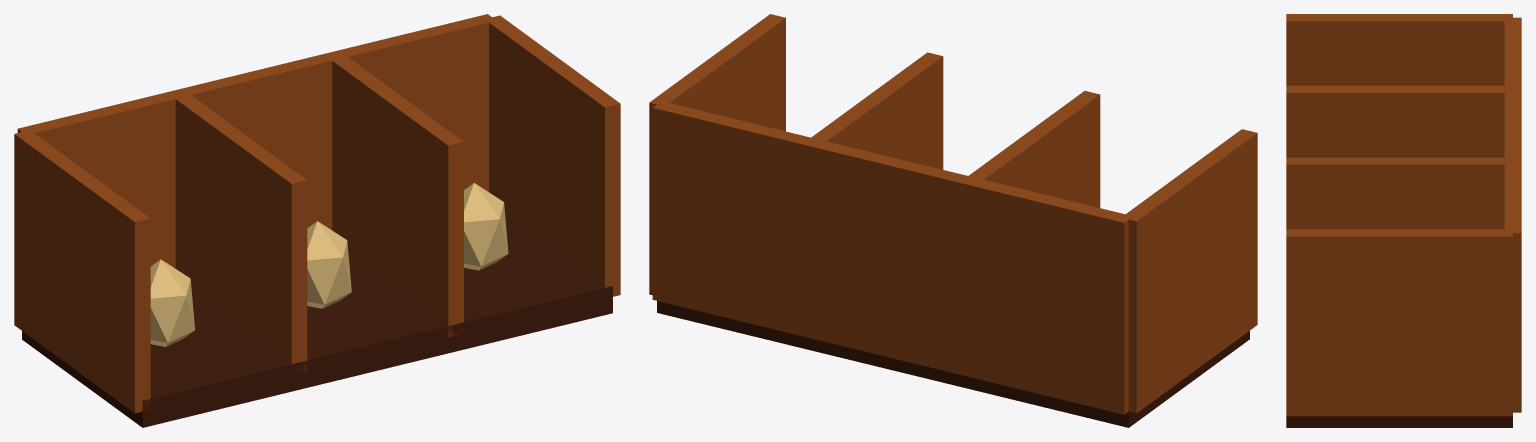
Rendered from nesting_box.obj.
3 renders of one model, left to right at view 1: azimuth 30°, elevation 25°; view 2: azimuth 150°, elevation 25°; view 3: azimuth 270°, elevation 25°, orthographic. The views are drawn at different scales.
Parts seen in each view (by area): view 1: nesting_box; view 2: nesting_box; view 3: nesting_box.
Part boxes in pixels (left/top/right/bottom): nesting_box: left=14, top=14, right=620, bottom=427; nesting_box: left=649, top=14, right=1257, bottom=427; nesting_box: left=1286, top=14, right=1521, bottom=427.
Bounding box in the file's own units: 0.93 × 0.38 × 0.415.
